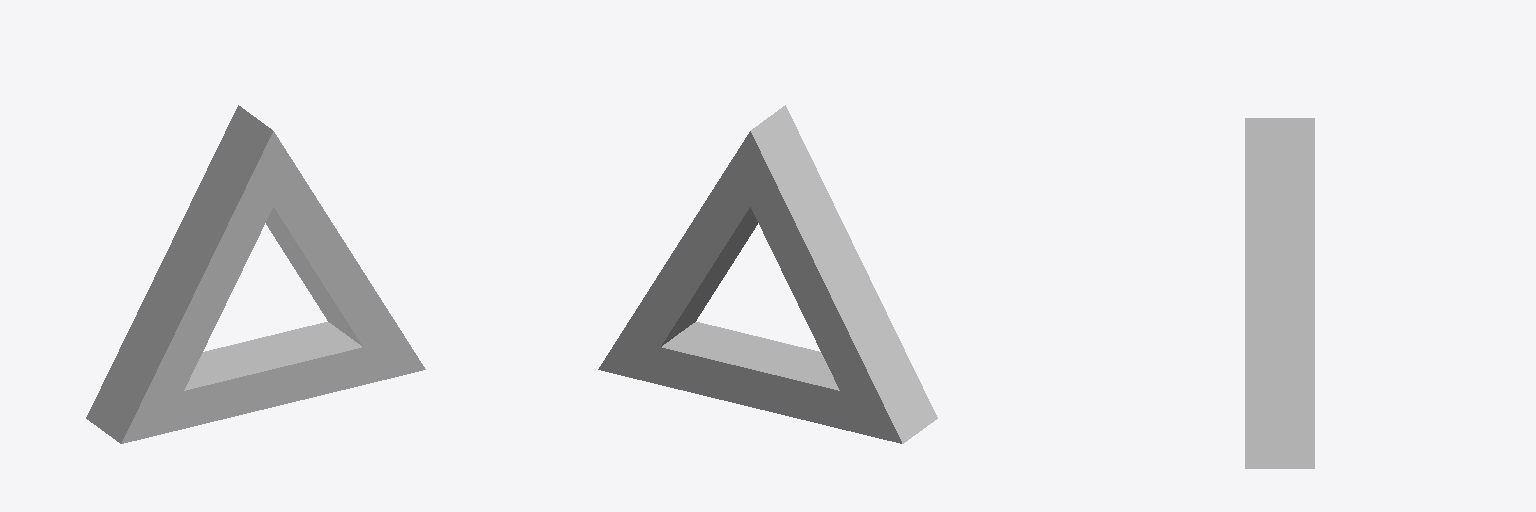
Rendered from triangle.obj.
3 renders of one model, left to right at view 1: azimuth 30°, elevation 25°; view 2: azimuth 150°, elevation 25°; view 3: azimuth 270°, elevation 25°, orthographic.
Visible parts, largest first — view 1: 立方体.007_立方体.008; view 2: 立方体.007_立方体.008; view 3: 立方体.007_立方体.008.
Boxes of the visible parts, <box> form: 立方体.007_立方体.008: <box>86,105,425,443</box>; 立方体.007_立方体.008: <box>598,105,937,443</box>; 立方体.007_立方体.008: <box>1245,118,1314,468</box>.
Size of the model in its own units: 3.4 by 2.94 by 0.68.